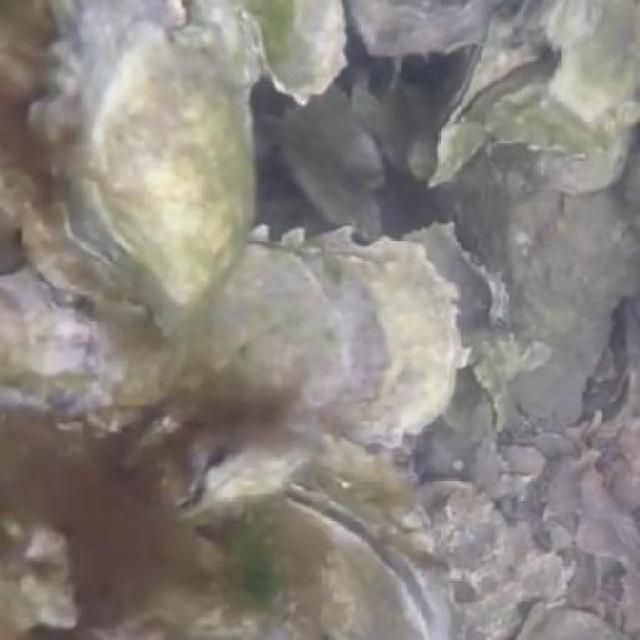Oyster- Indeterminate: (169, 244, 474, 443)
Oyster-Closed: (48, 15, 256, 324)
Oyster-Open: (100, 477, 436, 640), (178, 450, 301, 525)
